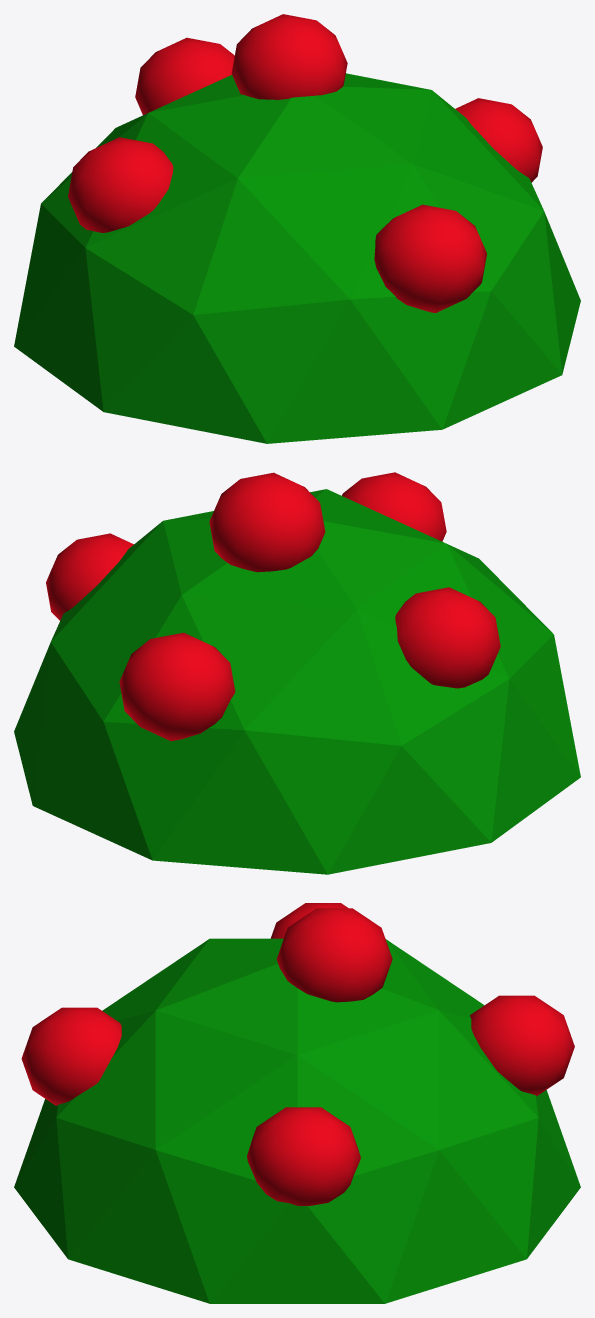
The model's file is elma çalısı.fbx.
The picture shows the model from 3 angles, top to bottom: view 1: azimuth 30°, elevation 25°; view 2: azimuth 150°, elevation 25°; view 3: azimuth 270°, elevation 25°; orthographic projection. The views are drawn at different scales.
Visible parts, largest first — view 1: İkosfer.005; view 2: İkosfer.005; view 3: İkosfer.005.
Part boxes in pixels (box(x1,y1,x2,y2)): İkosfer.005: box(14, 14, 580, 443); İkosfer.005: box(14, 472, 580, 874); İkosfer.005: box(14, 903, 580, 1303).
Size of the model in its own units: 190 by 110 by 200.
